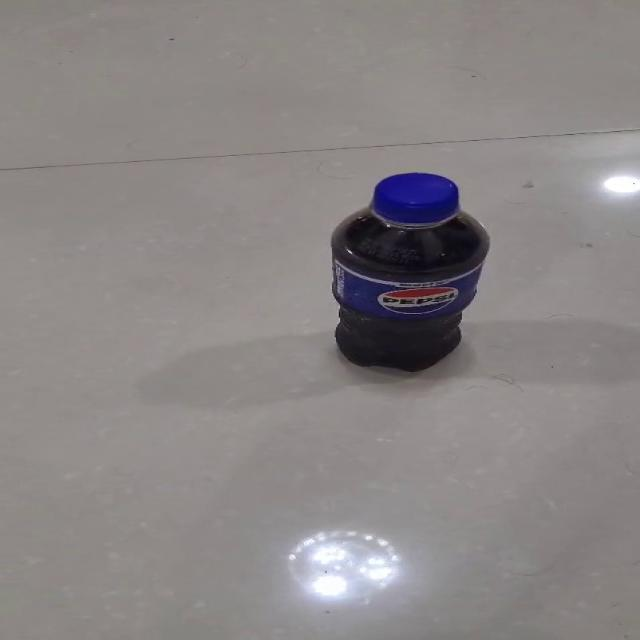plastic: (328, 171, 490, 372)
